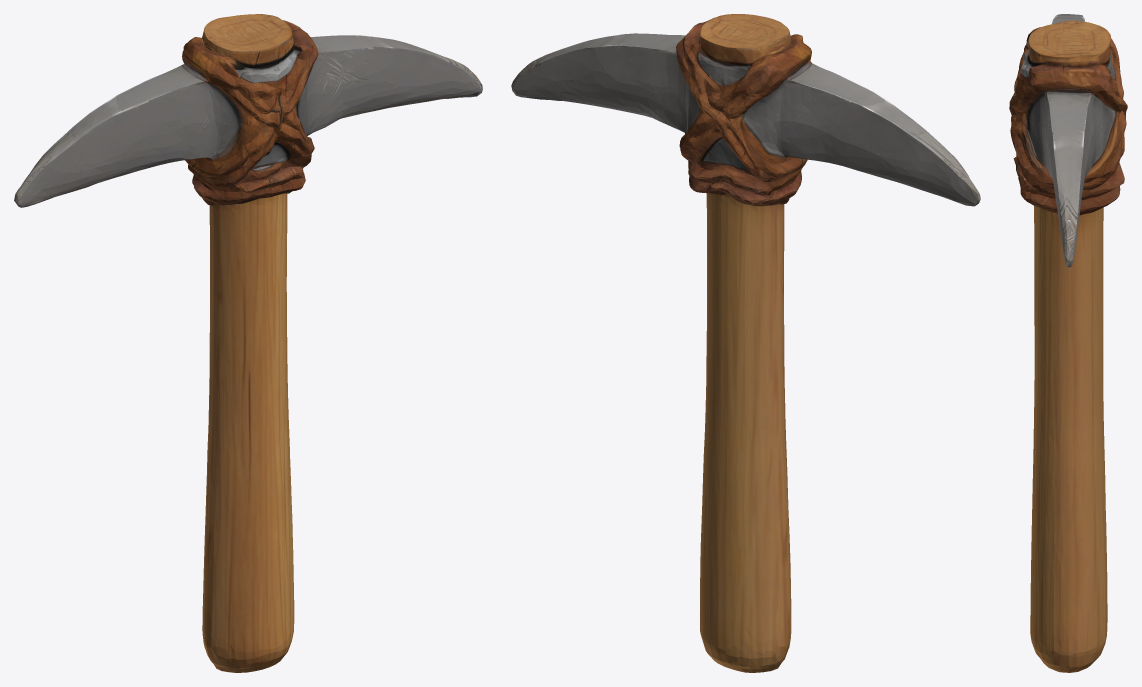
File: Stone_age_pickaxe_0502180216_texture.obj
3 renders of one model, left to right at view 1: azimuth 30°, elevation 25°; view 2: azimuth 150°, elevation 25°; view 3: azimuth 270°, elevation 25°, orthographic.
Parts seen in each view (by area): view 1: Stone_age_pickaxe_0502180216_texture; view 2: Stone_age_pickaxe_0502180216_texture; view 3: Stone_age_pickaxe_0502180216_texture.
Boxes of the visible parts, x1,y1,x2,y2 form: Stone_age_pickaxe_0502180216_texture: [14, 14, 482, 672]; Stone_age_pickaxe_0502180216_texture: [511, 14, 980, 672]; Stone_age_pickaxe_0502180216_texture: [1009, 14, 1127, 672].
Bounding box in the file's own units: 1.54 × 1.99 × 0.3426.
Materials: 1 (1 with a texture image).
